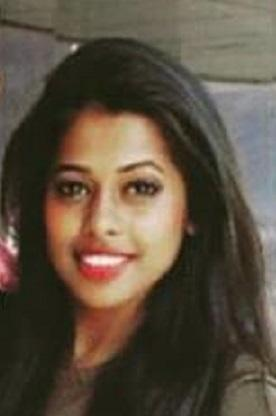No Mask: (6, 12, 260, 397)
